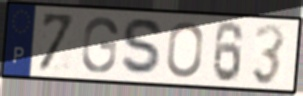3: (250, 22, 290, 87)
6: (212, 19, 244, 85)
7: (39, 11, 77, 74)
G: (80, 15, 120, 75)
O: (165, 20, 205, 80)
S: (119, 16, 167, 79)
